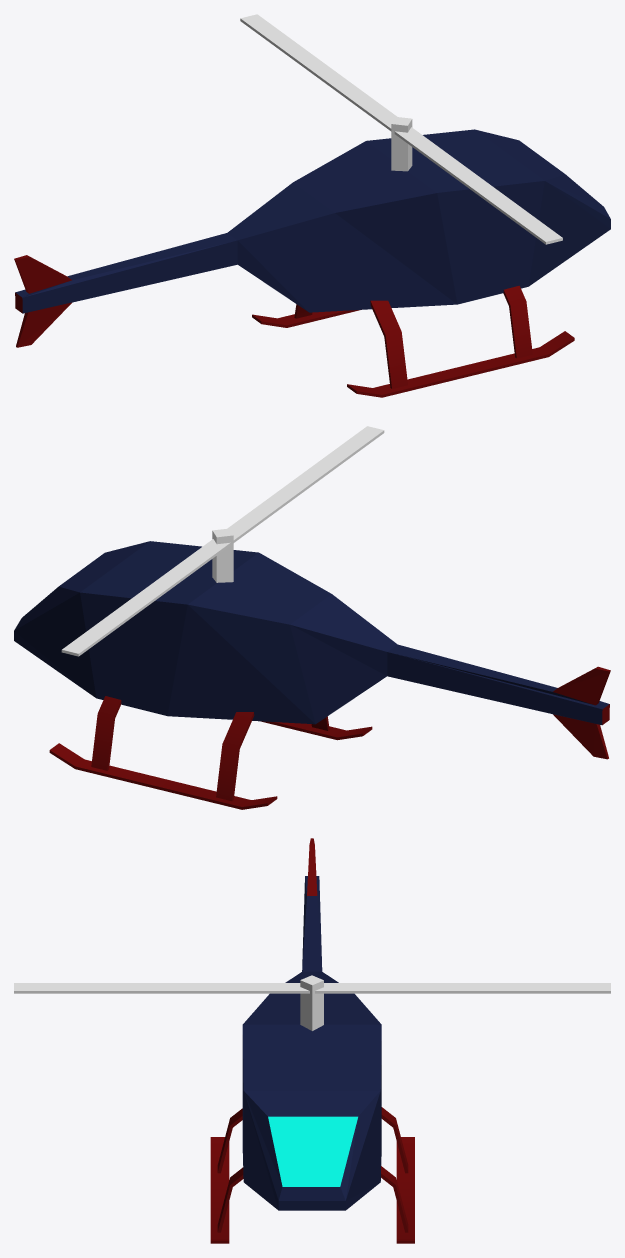
File: chopper.FBX
3 views of the same model, one above another, from view 1: azimuth 30°, elevation 25°; view 2: azimuth 150°, elevation 25°; view 3: azimuth 270°, elevation 25° (orthographic). The views are drawn at different scales.
Parts seen in each view (by area): view 1: Box001, Box002; view 2: Box001, Box002; view 3: Box001, Box002.
Part boxes in pixels (x1=…): Box001: x1=14, y1=129, x2=610, y2=397; Box002: x1=240, y1=14, x2=562, y2=244; Box001: x1=14, y1=541, x2=610, y2=809; Box002: x1=61, y1=426, x2=384, y2=656; Box001: x1=210, y1=838, x2=414, y2=1243; Box002: x1=14, y1=975, x2=610, y2=1030.
Size of the model in its own units: 218 by 79.5 by 199.
